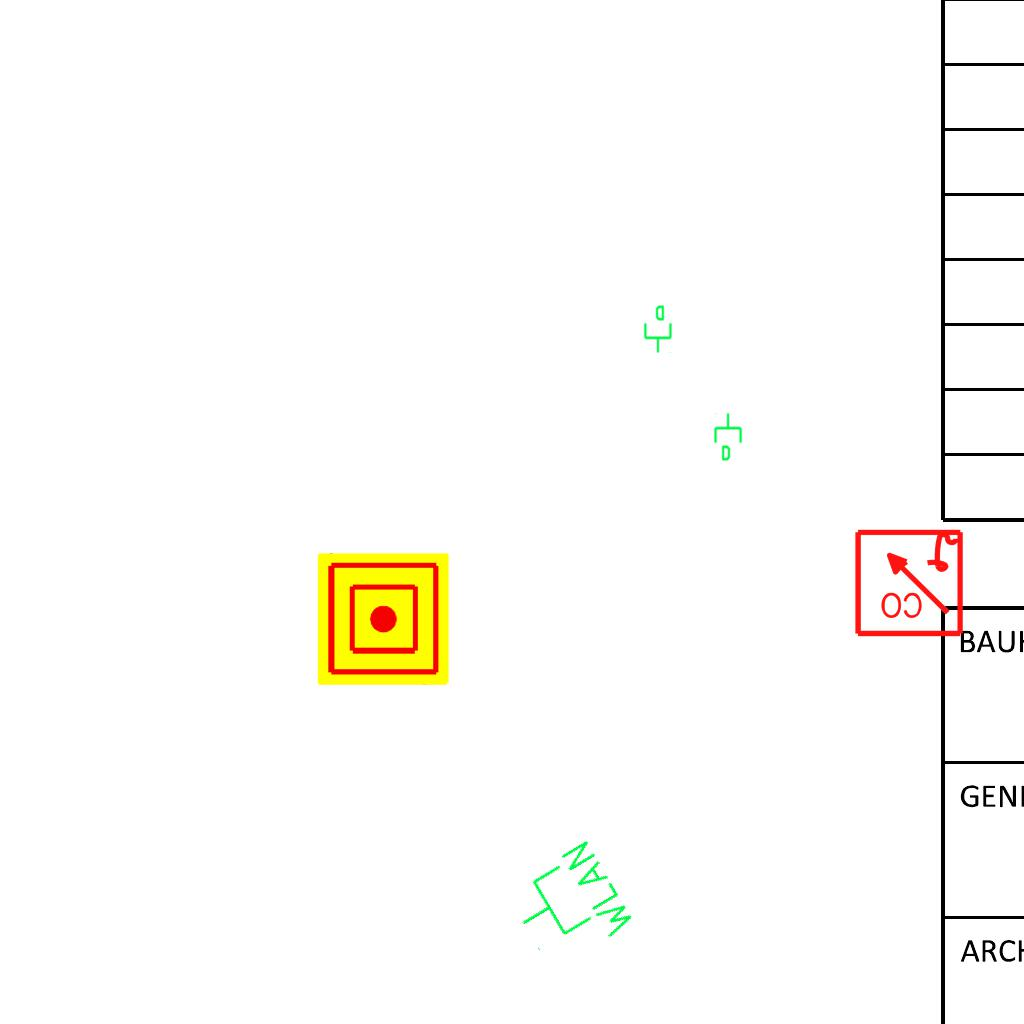Datenanschluss_einfach: (640, 304, 674, 354), (712, 412, 746, 462)
NAM-Nichtautomatischer_Melder: (317, 553, 449, 685)
ROA_Rauchmelder_optisch_mit_Signalgeber_(Sockelsirene): (852, 525, 965, 638)
WLAN: (498, 834, 642, 979)
